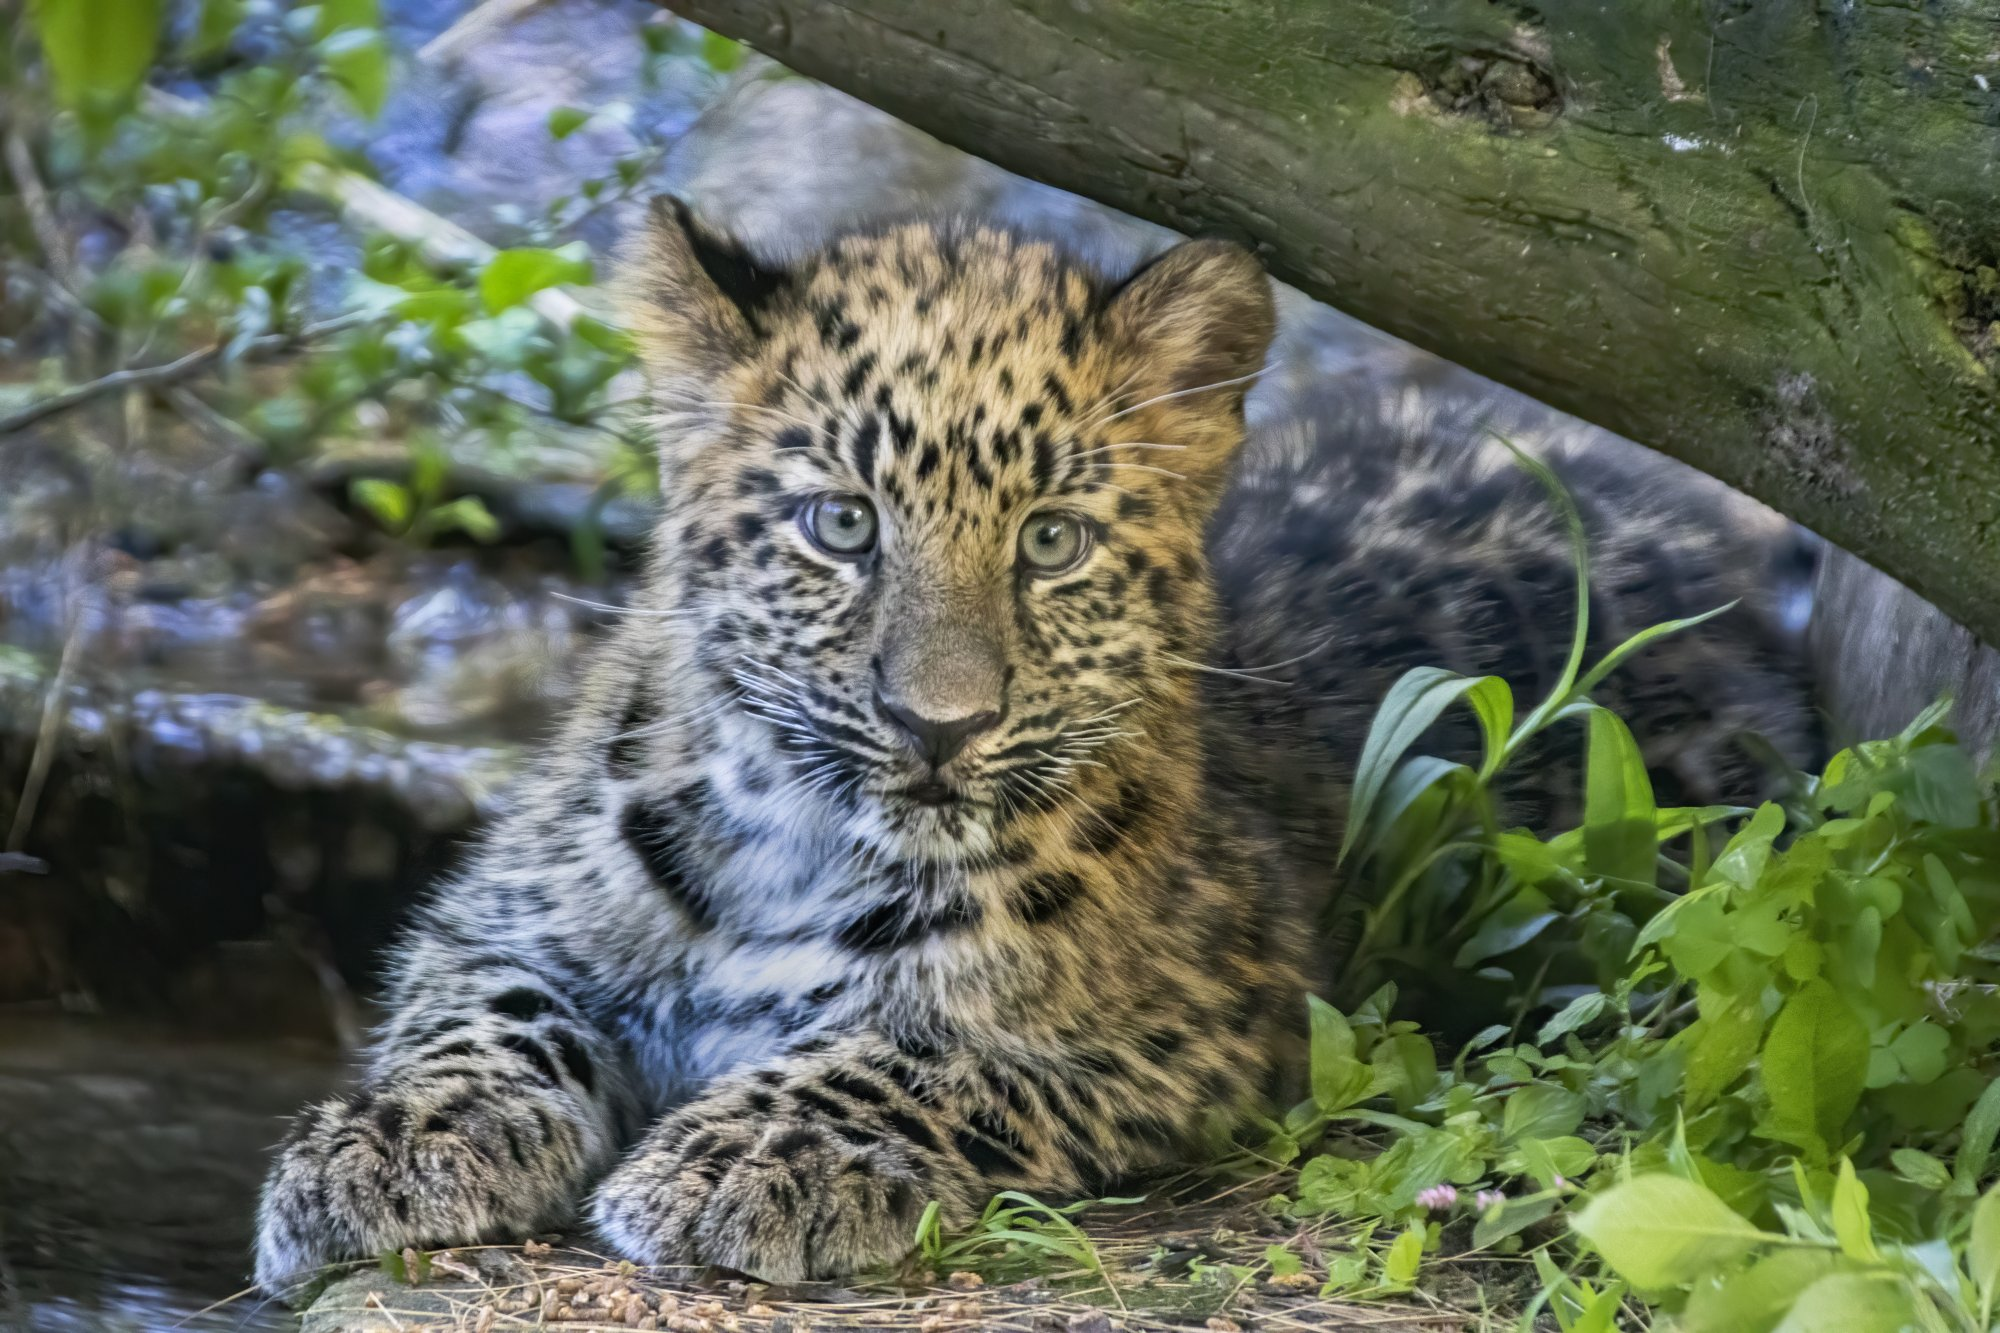amur_leopard: (280, 144, 1280, 1278)
